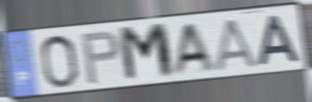A: (169, 20, 217, 78), (256, 13, 304, 69), (214, 16, 260, 73)
M: (116, 21, 177, 85)
O: (38, 33, 81, 90)
P: (80, 28, 123, 86)
